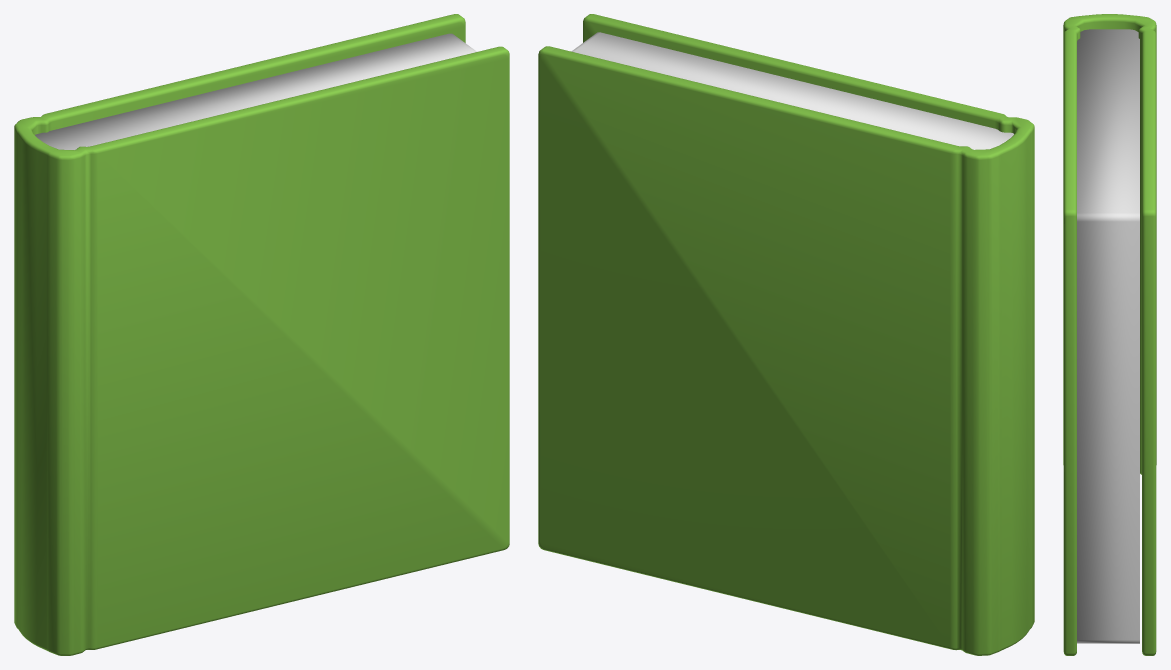
The model's file is book_green.fbx.
The picture shows the model from 3 angles, left to right: view 1: azimuth 30°, elevation 25°; view 2: azimuth 150°, elevation 25°; view 3: azimuth 270°, elevation 25°; orthographic projection. The views are drawn at different scales.
Visible parts, largest first — view 1: Cube.014; view 2: Cube.014; view 3: Cube.014.
Boxes of the visible parts, x1=… form: Cube.014: x1=14, y1=14, x2=509, y2=655; Cube.014: x1=538, y1=14, x2=1034, y2=655; Cube.014: x1=1063, y1=14, x2=1156, y2=655.
Size of the model in its own units: 313 by 327 by 61.89.
